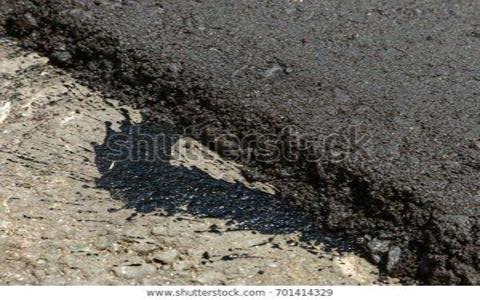Proper road: (174, 8, 476, 146)
